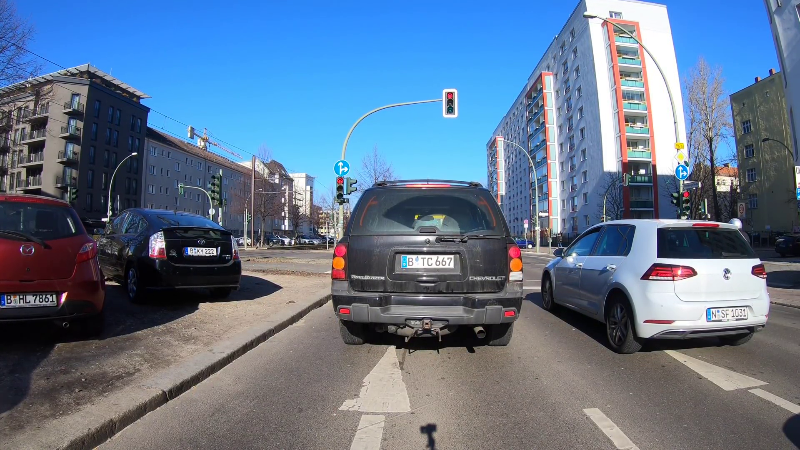Plate: (1, 287, 60, 310), (400, 252, 455, 269), (702, 304, 751, 323), (181, 245, 218, 257)
